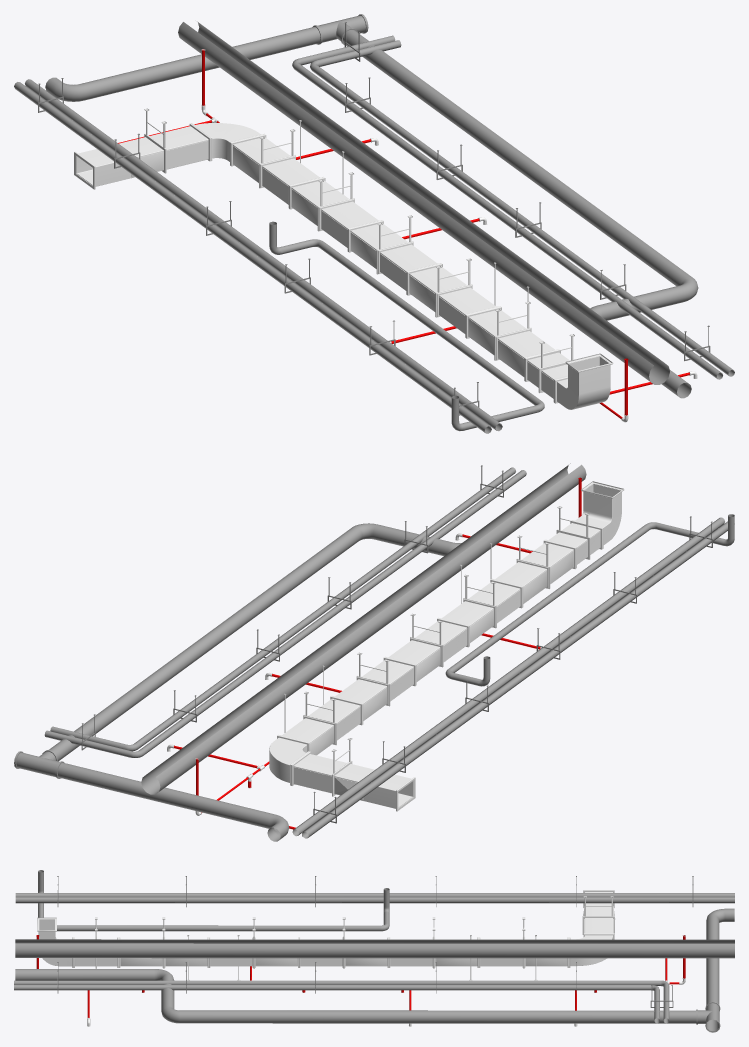
3 views of the same model, one above another, from view 1: azimuth 30°, elevation 25°; view 2: azimuth 150°, elevation 25°; view 3: azimuth 270°, elevation 25° (orthographic). The views are drawn at different scales.
Visible parts, largest first — view 1: SM_H_Building_FutureTech_HOrange_01_InterWall_10B; view 2: SM_H_Building_FutureTech_HOrange_01_InterWall_10B; view 3: SM_H_Building_FutureTech_HOrange_01_InterWall_10B.
Boxes of the visible parts, x1=… form: SM_H_Building_FutureTech_HOrange_01_InterWall_10B: x1=14, y1=14, x2=734, y2=433; SM_H_Building_FutureTech_HOrange_01_InterWall_10B: x1=14, y1=463, x2=734, y2=841; SM_H_Building_FutureTech_HOrange_01_InterWall_10B: x1=14, y1=870, x2=734, y2=1032.
Size of the model in its own units: 658 by 285 by 58.45.
